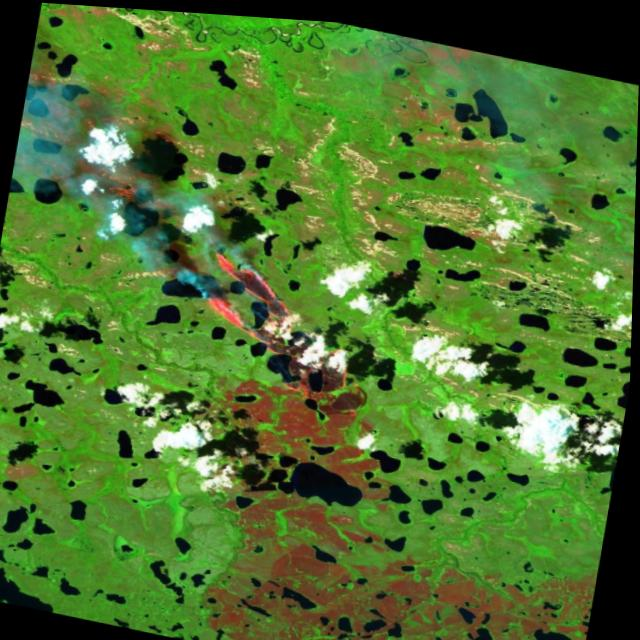fire: (178, 241, 389, 418)
